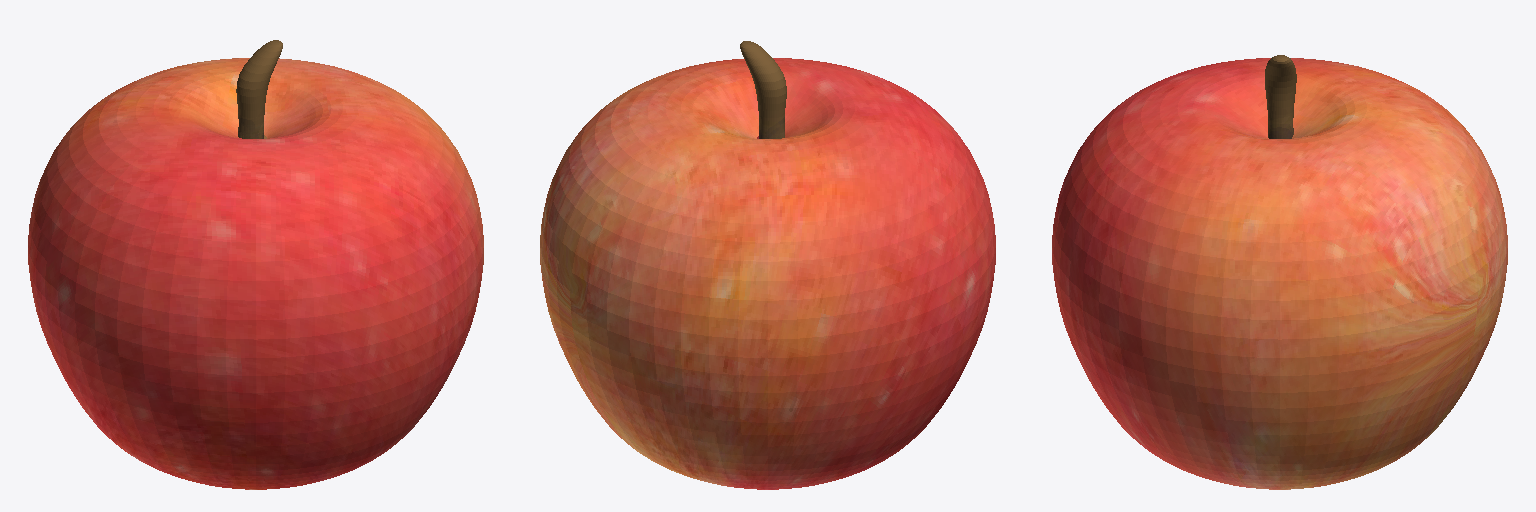
3 views of the same model, side by side, from view 1: azimuth 30°, elevation 25°; view 2: azimuth 150°, elevation 25°; view 3: azimuth 270°, elevation 25° (orthographic).
Visible parts, largest first — view 1: Circle, Circle.001; view 2: Circle, Circle.001; view 3: Circle, Circle.001.
Part boxes in pixels (bbox=[...]): Circle: bbox=[28, 58, 483, 489]; Circle.001: bbox=[236, 40, 282, 138]; Circle: bbox=[540, 58, 995, 489]; Circle.001: bbox=[740, 41, 786, 138]; Circle: bbox=[1052, 58, 1507, 489]; Circle.001: bbox=[1265, 55, 1296, 138].
Bounding box in the file's own units: 29.58 × 29.87 × 29.58.
2 materials, 2 textured.